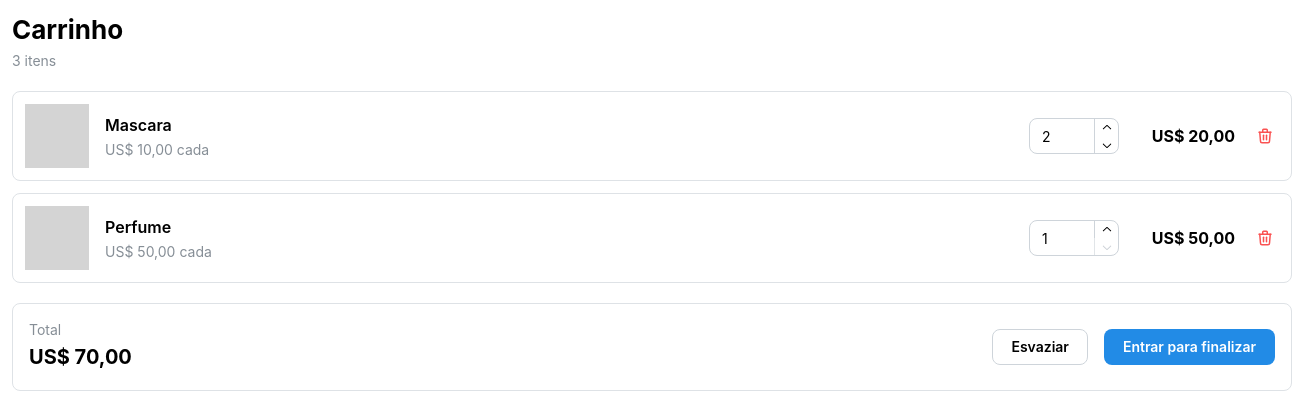
Test case: <CartPage /> › lista os itens e remove um deles
This screenshot has width=1292, height=408.
Expected: the text "3 itens" is shown, [12,52,56,69]
Click the button named "Remover Perfume": coordinates (1265, 238) [1251,224,1279,252]
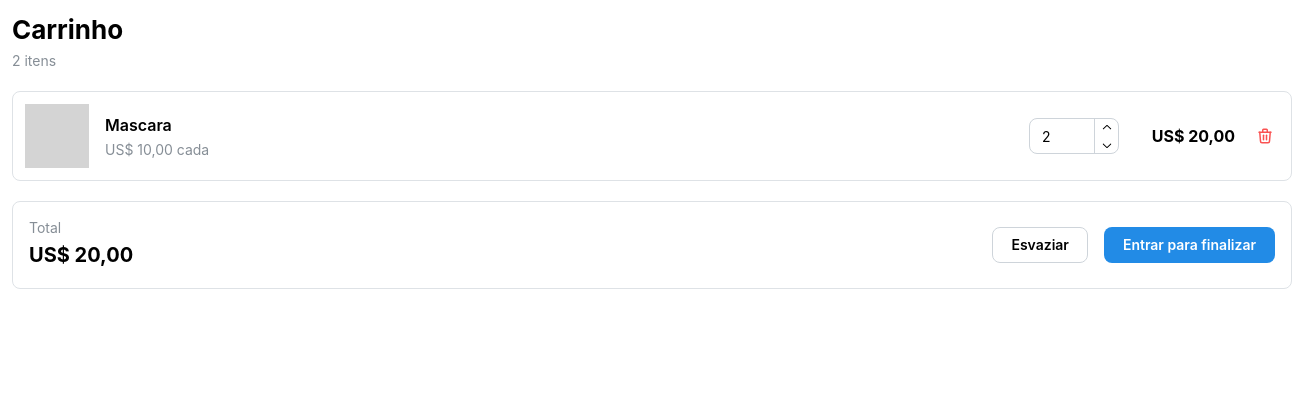
Now the link "Perfume" is gone
Now the text "2 itens" is shown, box [12,52,56,69]
